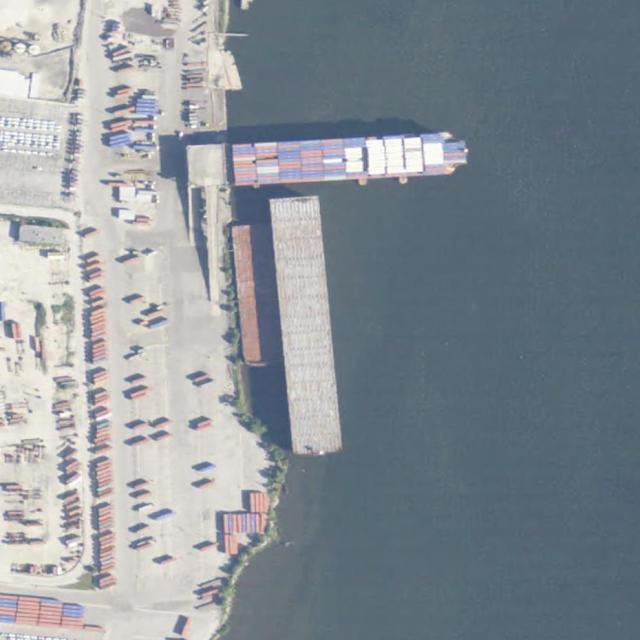Container Ship: (268, 192, 343, 459), (229, 129, 470, 186)
